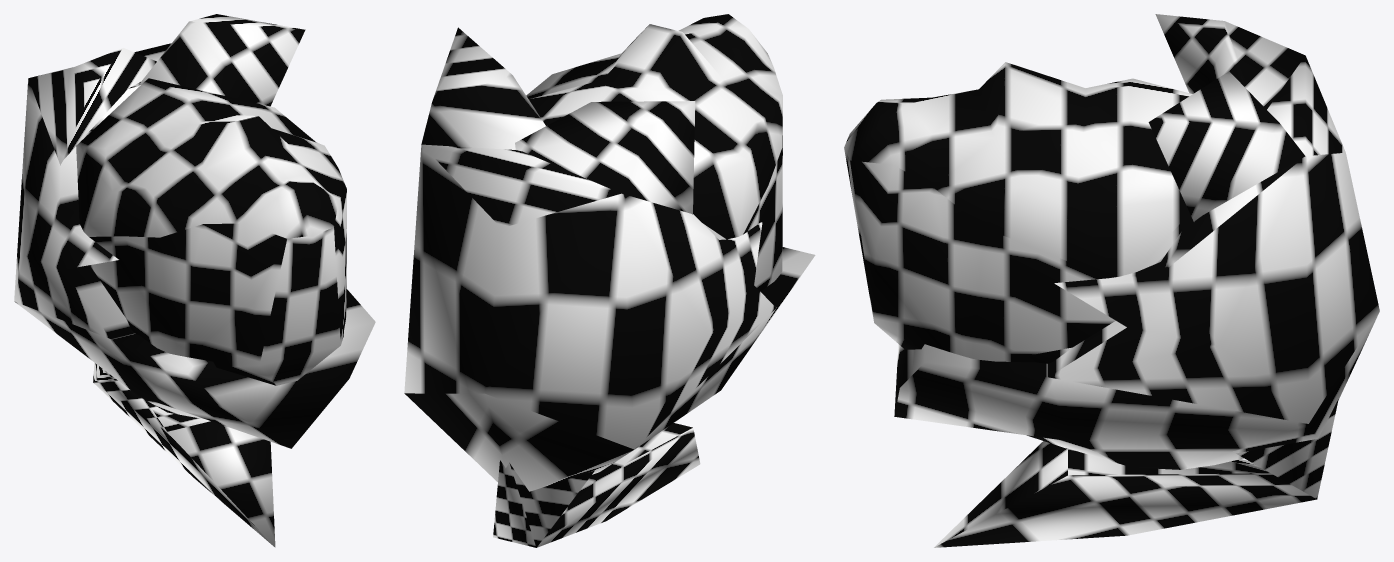
Rendered from infaunhufeme5.dae.
3 views of the same model, side by side, from view 1: azimuth 30°, elevation 25°; view 2: azimuth 150°, elevation 25°; view 3: azimuth 270°, elevation 25° (orthographic). The views are drawn at different scales.
Parts seen in each view (by area): view 1: face; view 2: face; view 3: face.
Part boxes in pixels (<box>): face: <box>14,14,375,547</box>; face: <box>404,14,815,547</box>; face: <box>844,14,1379,547</box>.
Bounding box in the file's own units: 1.01 × 1.55 × 1.59.
1 material, 1 textured.
